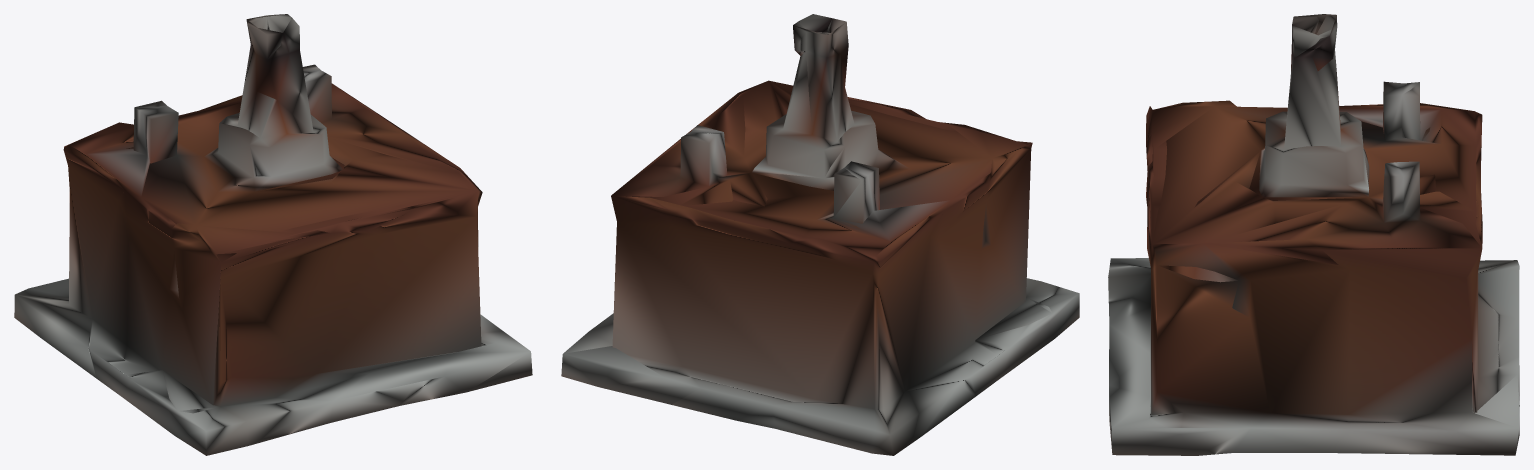
The model's file is gen3d-factory-lod1.glb.
3 views of the same model, side by side, from view 1: azimuth 30°, elevation 25°; view 2: azimuth 150°, elevation 25°; view 3: azimuth 270°, elevation 25° (orthographic). The views are drawn at different scales.
Visible parts, largest first — view 1: part_0; view 2: part_0; view 3: part_0.
Boxes of the visible parts, x1,y1,x2,y2 form: part_0: [14, 14, 532, 455]; part_0: [561, 14, 1079, 455]; part_0: [1108, 14, 1519, 455].
Size of the model in its own units: 1.07 by 0.9986 by 1.07.
